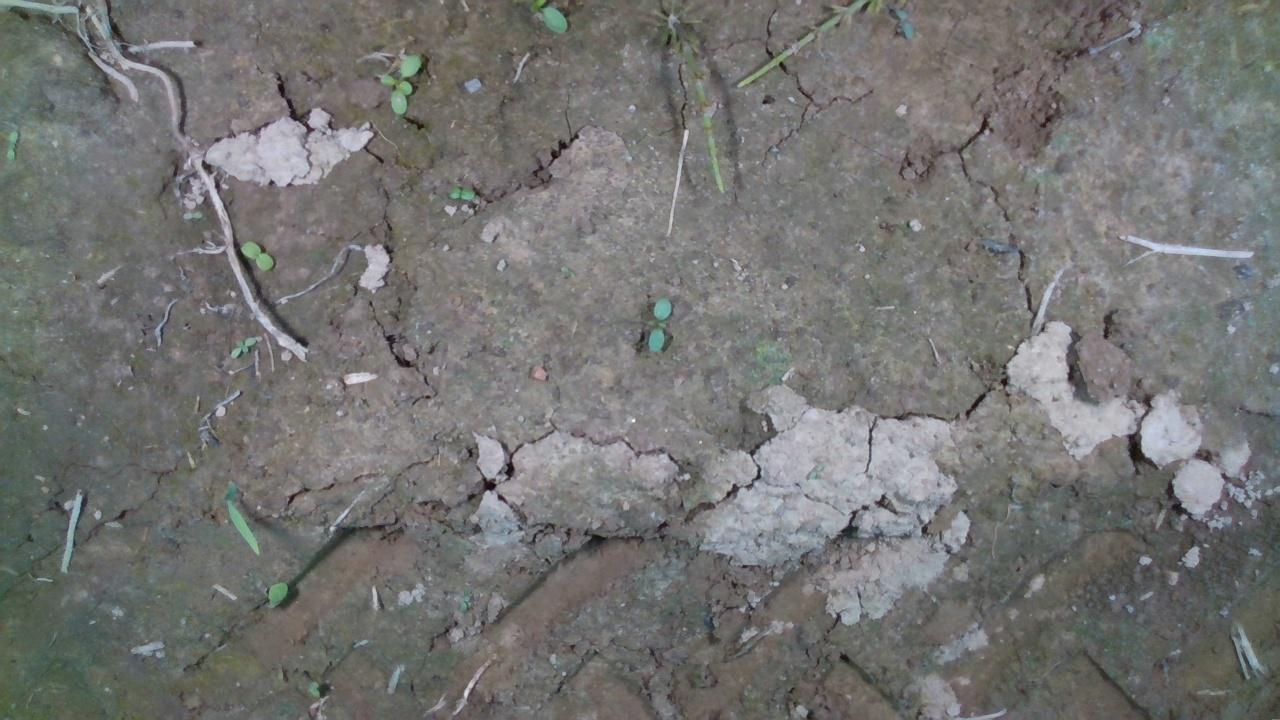weed: (373, 52, 422, 115), (645, 295, 672, 354), (237, 238, 274, 271), (227, 334, 257, 360), (445, 183, 476, 199), (5, 127, 19, 161)
